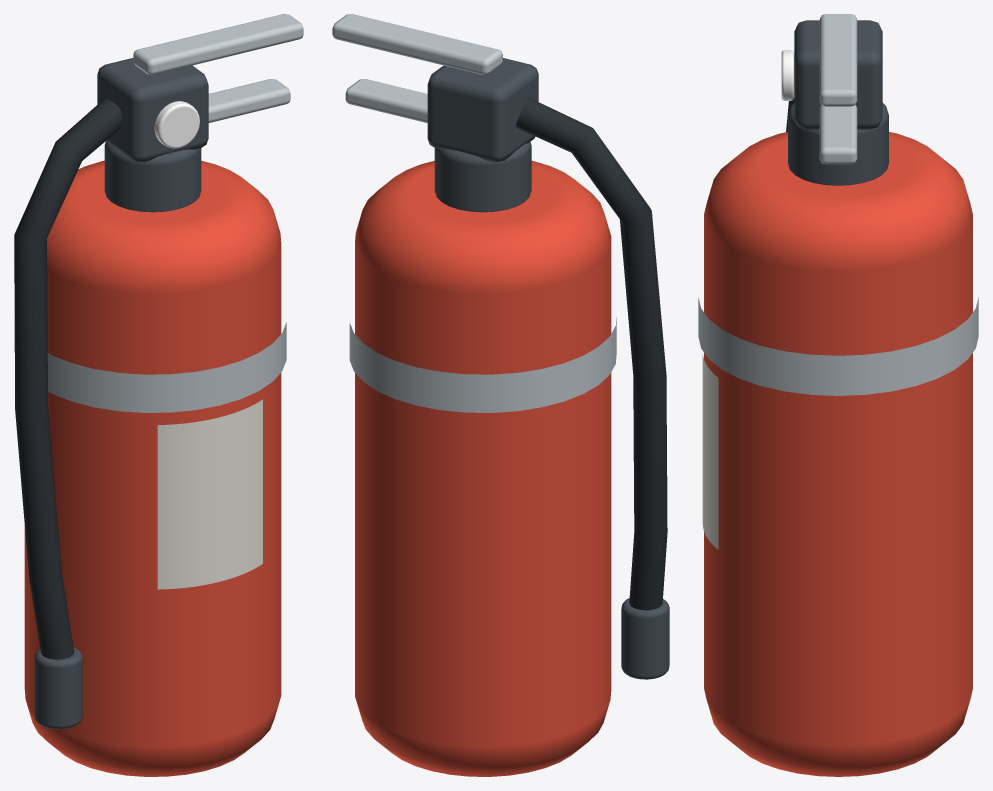
Rendered from SM_FireExtinguisher.glb.
3 renders of one model, left to right at view 1: azimuth 30°, elevation 25°; view 2: azimuth 150°, elevation 25°; view 3: azimuth 270°, elevation 25°, orthographic. The views are drawn at different scales.
Parts seen in each view (by area): view 1: SM_FireExtinguisher, Handle; view 2: SM_FireExtinguisher, Handle; view 3: SM_FireExtinguisher, Handle.
Part boxes in pixels (box(x1,y1,x2,y2)): SM_FireExtinguisher: box(14, 58, 290, 776); Handle: box(133, 14, 303, 74); SM_FireExtinguisher: box(345, 58, 669, 776); Handle: box(332, 14, 502, 74); SM_FireExtinguisher: box(698, 20, 978, 776); Handle: box(819, 14, 857, 106).
Bounding box in the file's own units: 0.231 × 0.502 × 0.177.
2 materials, 2 textured.
